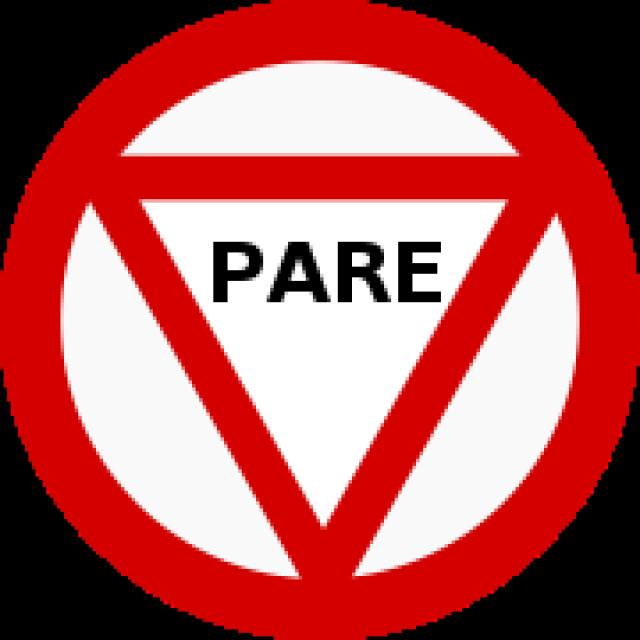Traffic sign: (23, 48, 610, 597)
